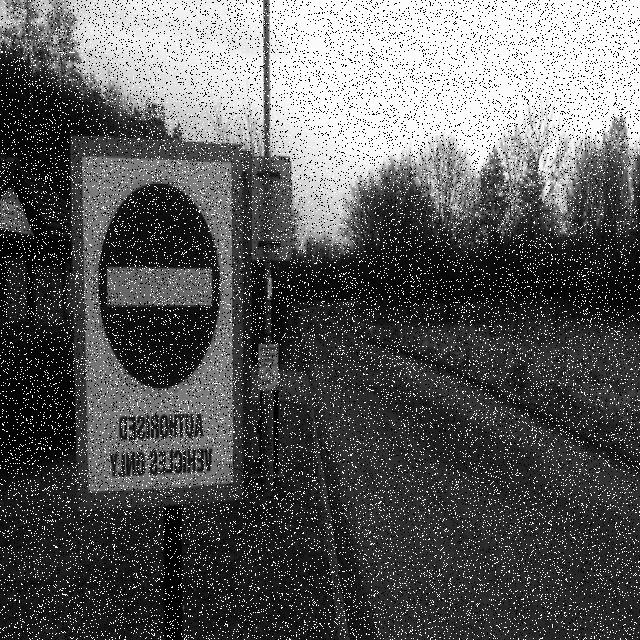no entry: (99, 182, 222, 388)
